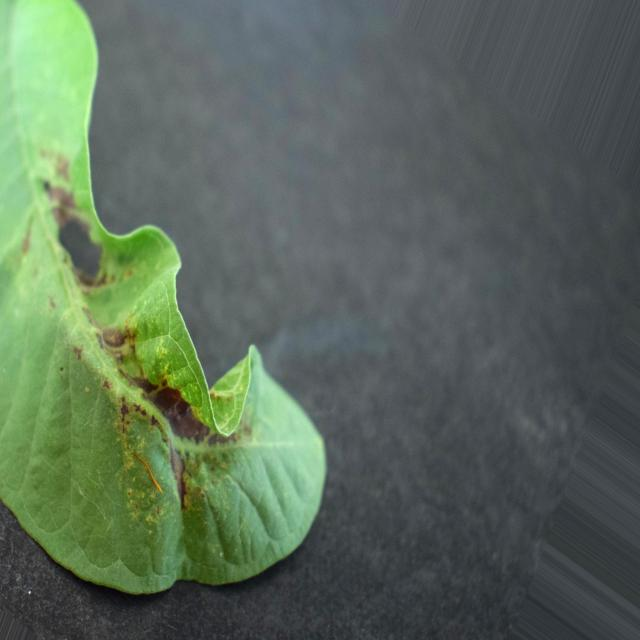Canker: (0, 2, 325, 594)
